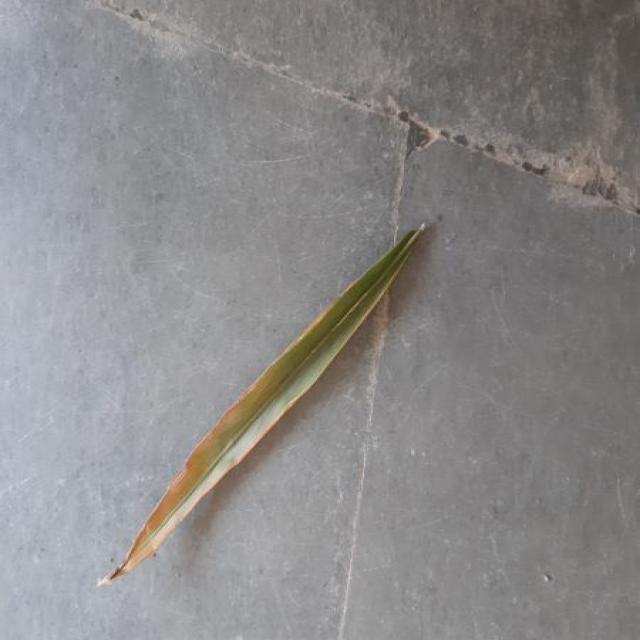bacterial wilt: (98, 225, 427, 584)
ginger: (127, 351, 329, 569)
